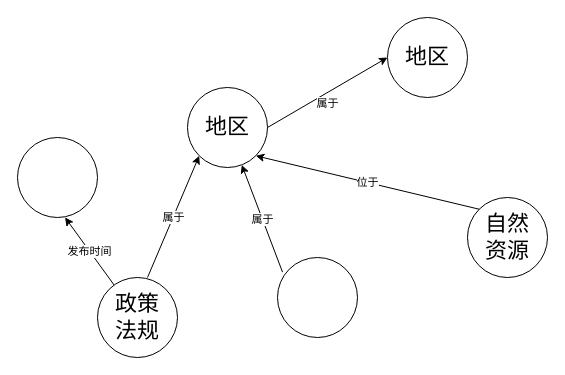
This 565x375 diagram has some shape labels left out. The centre of each missing label's shape, as x and y in pixels:
"基础 设施" belongs at point (317, 297).
"时间" belongs at point (57, 177).
